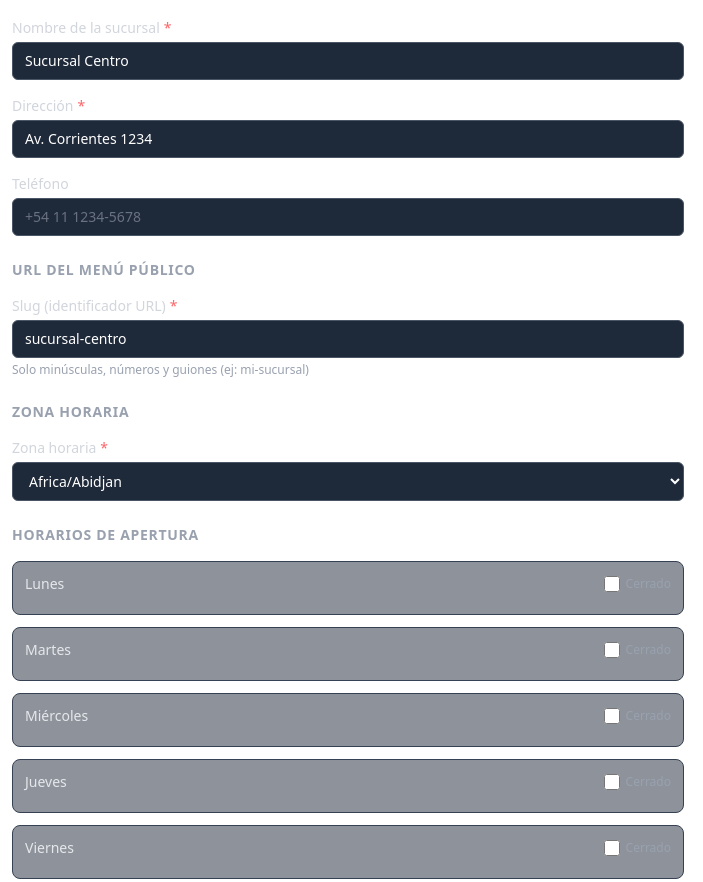
Test: BranchSettingsForm › shows slug regex error for invalid slug
The width and height of the screenshot is (703, 882).
Replace the text in the field showing "sucursal-centro" with "INVALID SLUG!" at (348,339), box [12,320,684,358]
(page scrolled)
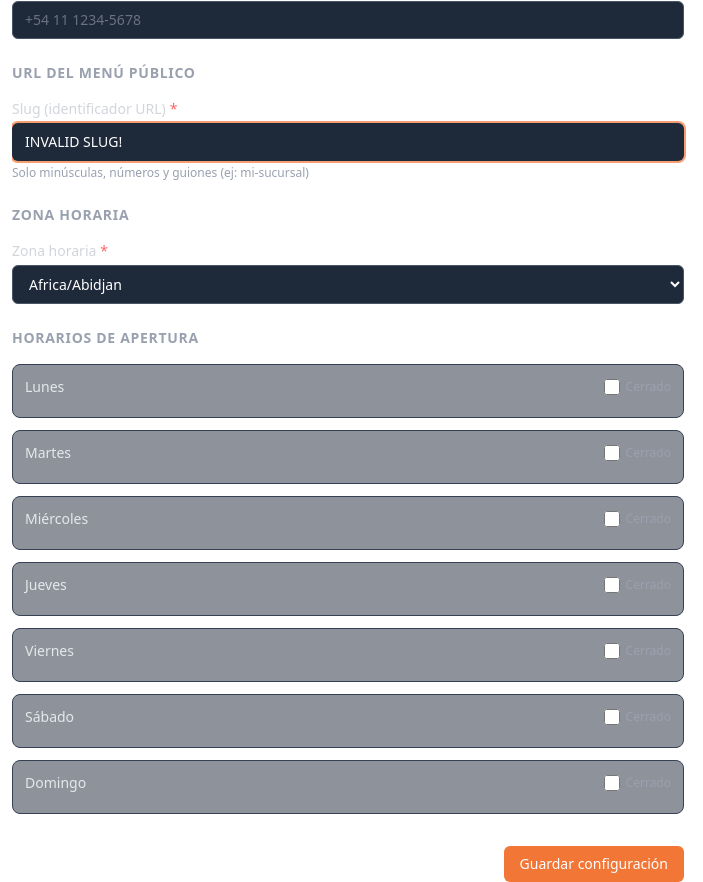
Click the button "Guardar configuración".
click(594, 864)  # box [504,846,684,881]
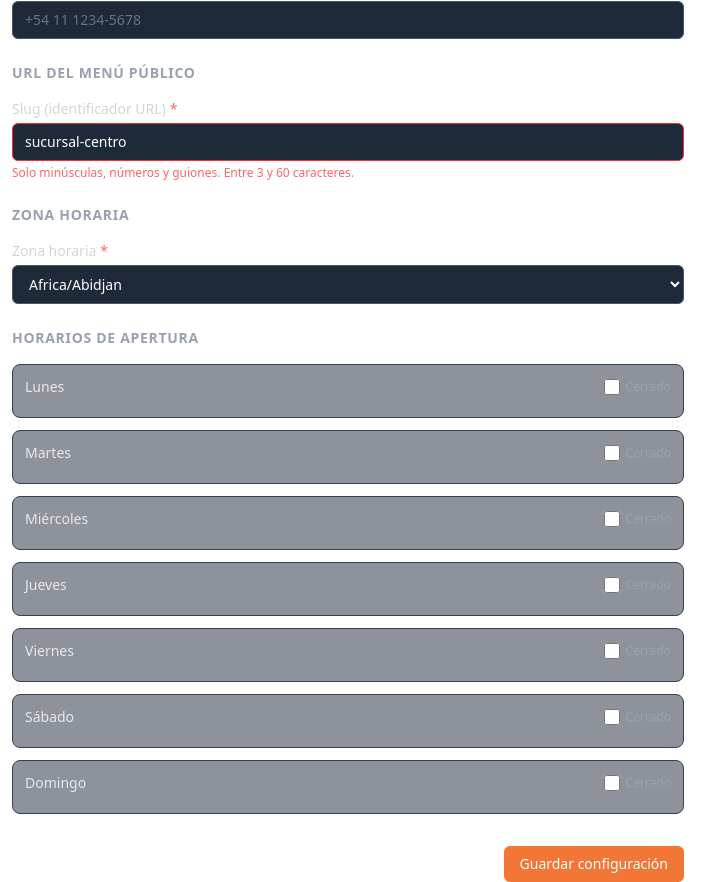
expect the text "Solo minúsculas, números y guiones. Entre 3 y 60 caracteres." is shown: met, box [12,164,354,181]
